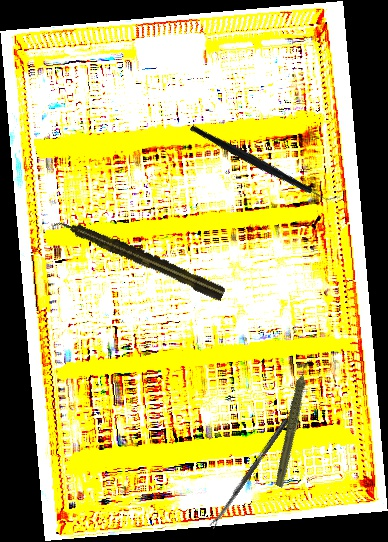Chopper: (188, 83, 342, 243)
Handpiece: (52, 212, 227, 303), (250, 358, 339, 489)
Surgical Spoon: (208, 417, 290, 529)
